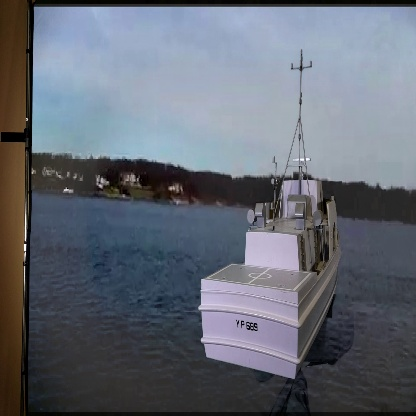YP689: (197, 54, 345, 377)
